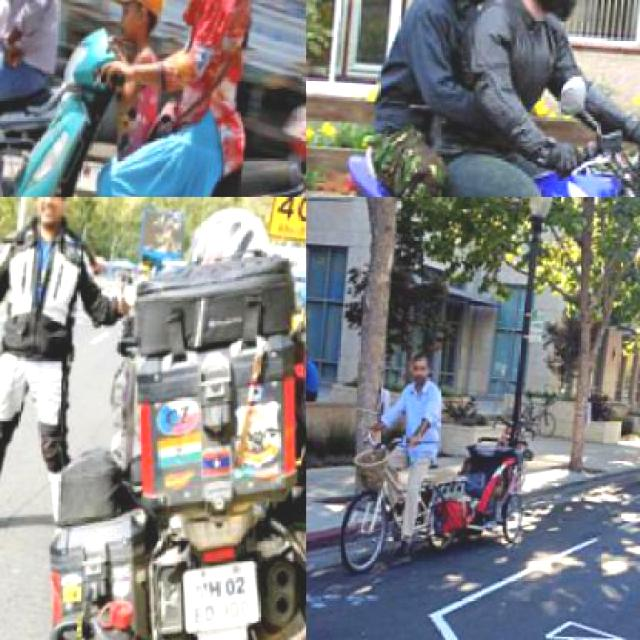With Helmet: (498, 0, 604, 25)
Without Helmet: (20, 197, 77, 238), (406, 349, 436, 385)
